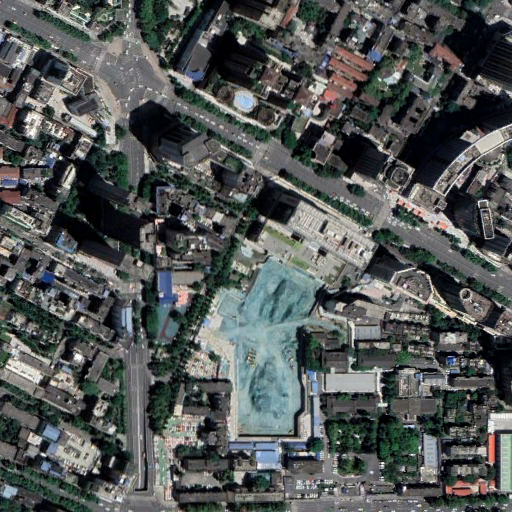cw: (212, 256, 321, 439)
